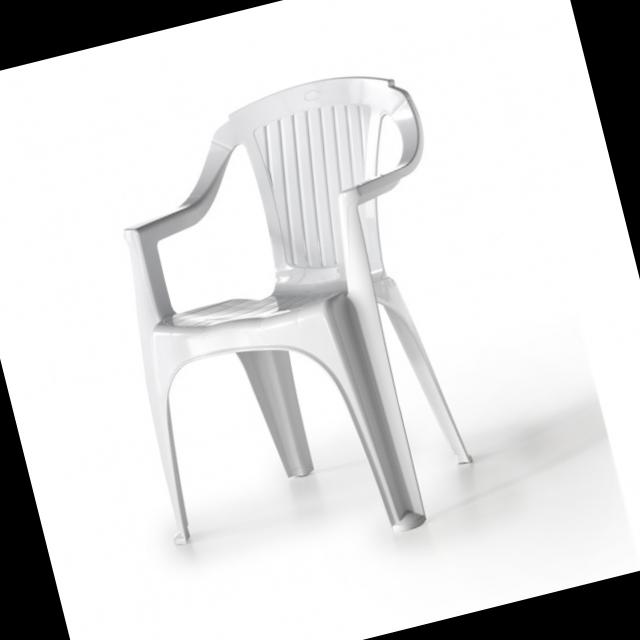Chair: (78, 56, 530, 624)
